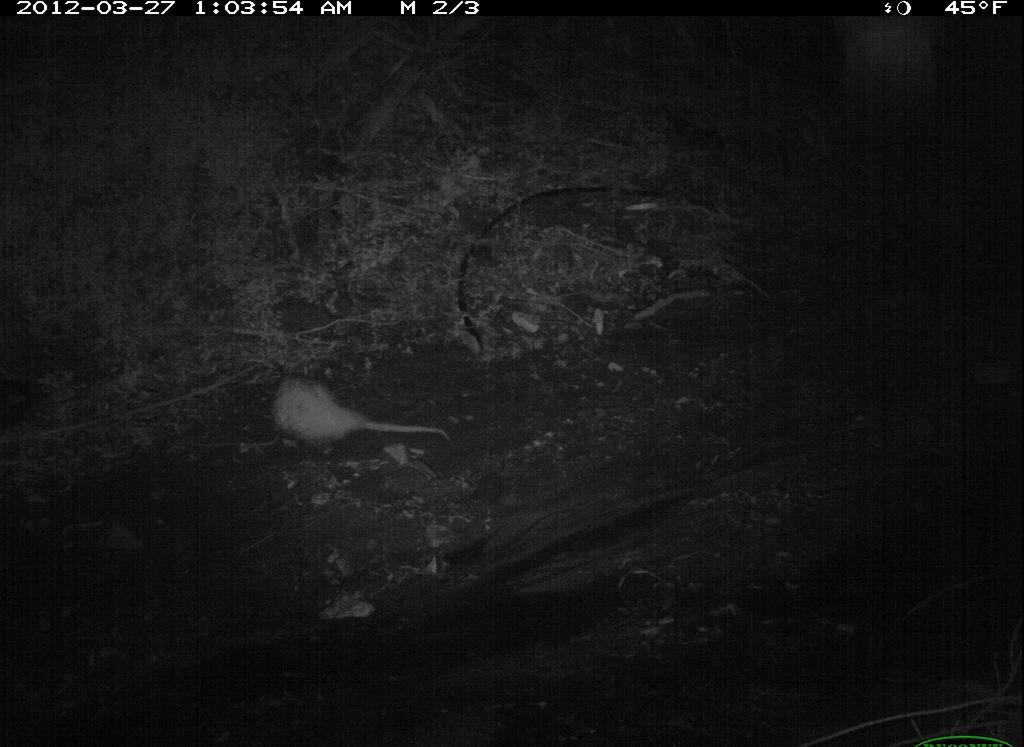opossum: (264, 367, 460, 465)
